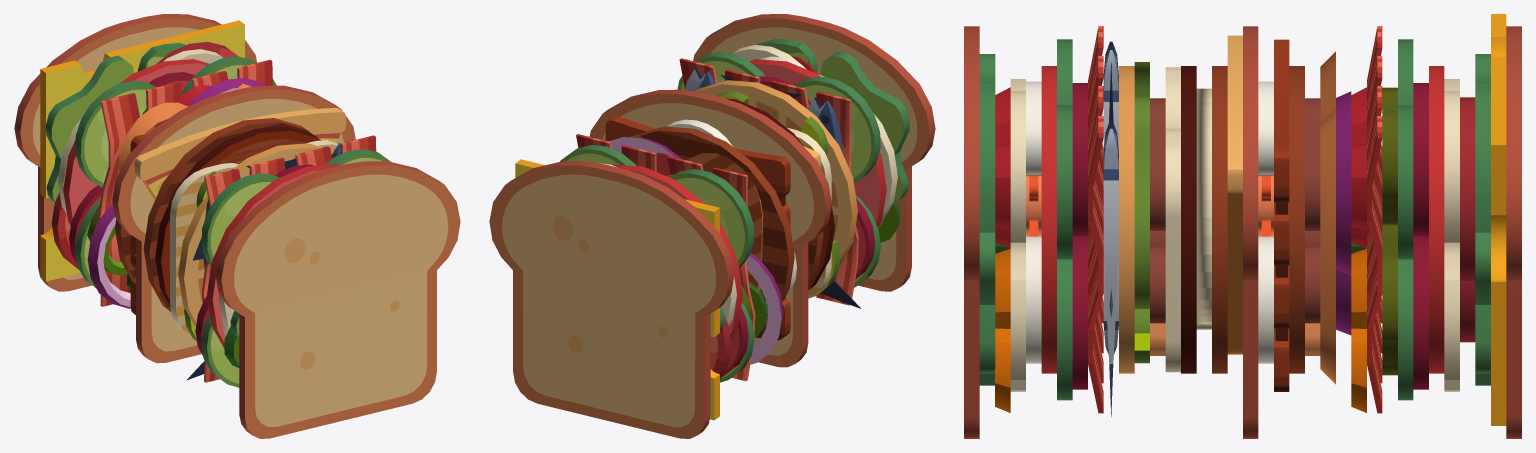
Rendered from Sandwhich.glb.
The picture shows the model from 3 angles, left to right: view 1: azimuth 30°, elevation 25°; view 2: azimuth 150°, elevation 25°; view 3: azimuth 270°, elevation 25°; orthographic projection. The views are drawn at different scales.
Parts seen in each view (by area): view 1: Sandwhich; view 2: Sandwhich; view 3: Sandwhich.
Boxes of the visible parts, <box> form: Sandwhich: <box>14,14,460,438</box>; Sandwhich: <box>489,14,935,438</box>; Sandwhich: <box>964,14,1521,438</box>.
Bounding box in the file's own units: 0.2402 × 0.24 × 0.36.
24 materials, 24 textured.
